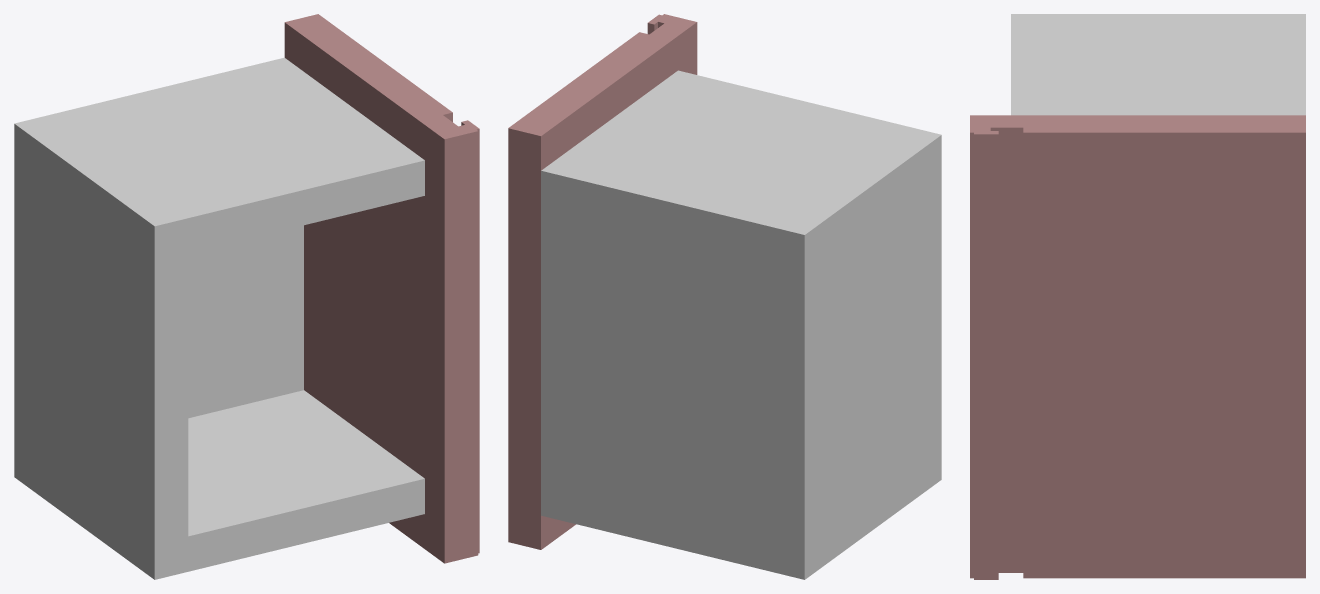
File: REFRIGERATOR-BODYSET2_link_mesh.dae
The picture shows the model from 3 angles, left to right: view 1: azimuth 30°, elevation 25°; view 2: azimuth 150°, elevation 25°; view 3: azimuth 270°, elevation 25°; orthographic projection. The views are drawn at different scales.
Parts seen in each view (by area): view 1: REFRIGERATOR-BODYSET2_link (×2); view 2: REFRIGERATOR-BODYSET2_link (×2); view 3: REFRIGERATOR-BODYSET2_link (×2).
Part boxes in pixels (x1,y1,x2,y2): REFRIGERATOR-BODYSET2_link (×2): (14,14,479,579); REFRIGERATOR-BODYSET2_link (×2): (508,14,941,579); REFRIGERATOR-BODYSET2_link (×2): (970,14,1305,579).
Size of the model in its own units: 0.455 by 0.6 by 0.41.
